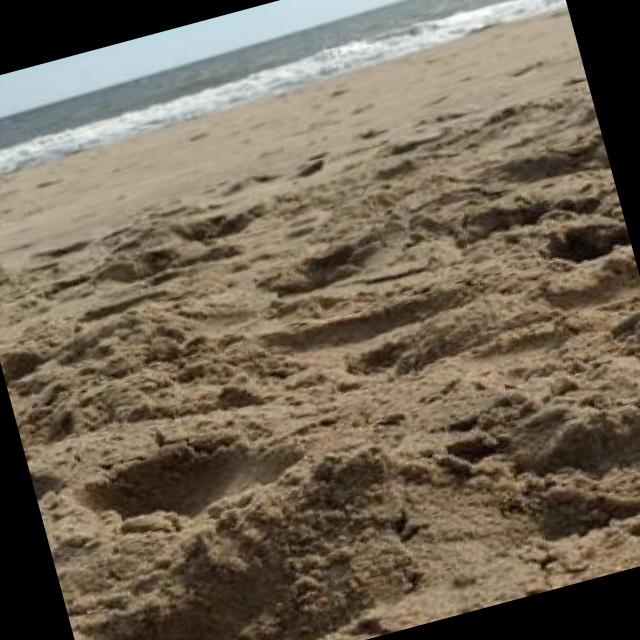red-sand: (0, 85, 640, 640)
